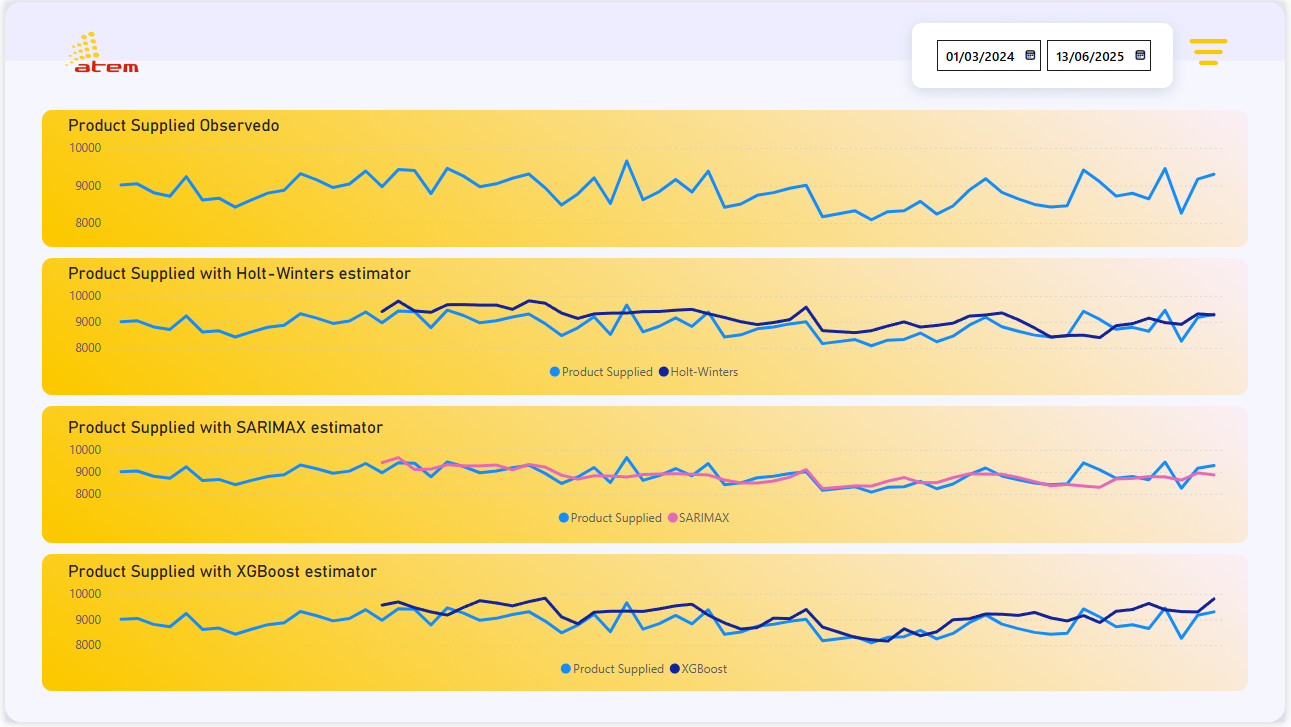

The page's visual inventory and layout, read from the dashboard file:
{"tool":"powerbi","page":{"name":"Página 1","canvas":[1280,720],"ordinal":0},"visuals":[{"type":"slicer","fields":{"Values":["dados.date_demand"]},"box":[919,28,236,53],"z":0},{"type":"lineChart","title":"Product Supplied Observedo","fields":{"Y":["Max(dados.Demand)"],"Category":["dados.date_demand.Variation.Hierarquia de datas.Ano","dados.date_demand.Variation.Hierarquia de datas.Trimestre","dados.date_demand.Variation.Hierarquia de datas.Mês","dados.date_demand.Variation.Hierarquia de datas.Dia"]},"box":[58,113,1166,122],"z":1000},{"type":"lineChart","title":"Product Supplied with Holt-Winters estimator","fields":{"Y":["Max(dados.Demand)"],"Category":["dados.date_demand.Variation.Hierarquia de datas.Ano","dados.date_demand.Variation.Hierarquia de datas.Trimestre","dados.date_demand.Variation.Hierarquia de datas.Mês","dados.date_demand.Variation.Hierarquia de datas.Dia"],"Y2":["Max(dados.hw)"]},"box":[58,261,1166,127],"z":2000},{"type":"lineChart","title":"Product Supplied with SARIMAX estimator","fields":{"Y":["Max(dados.Demand)"],"Category":["dados.date_demand.Variation.Hierarquia de datas.Ano","dados.date_demand.Variation.Hierarquia de datas.Trimestre","dados.date_demand.Variation.Hierarquia de datas.Mês","dados.date_demand.Variation.Hierarquia de datas.Dia"],"Y2":["Max(dados.sarimax)"]},"box":[58,415,1166,119],"z":3000},{"type":"lineChart","title":"Product Supplied with XGBoost estimator","fields":{"Y":["Max(dados.Demand)"],"Category":["dados.date_demand.Variation.Hierarquia de datas.Ano","dados.date_demand.Variation.Hierarquia de datas.Trimestre","dados.date_demand.Variation.Hierarquia de datas.Mês","dados.date_demand.Variation.Hierarquia de datas.Dia"],"Y2":["Max(dados.xgb)"]},"box":[58,559,1166,126],"z":4000}]}

Visuals, with their boxes in screenshot pixels (x1, y1, x2, y2), scaled from the page's 1280x720 canvas onto the 1291x727 screenshot:
slicer - dados.date_demand: (927, 28, 1165, 82)
"Product Supplied Observedo" lineChart: (58, 114, 1235, 237)
"Product Supplied with Holt-Winters estimator" lineChart: (58, 264, 1235, 392)
"Product Supplied with SARIMAX estimator" lineChart: (58, 419, 1235, 539)
"Product Supplied with XGBoost estimator" lineChart: (58, 564, 1235, 692)
